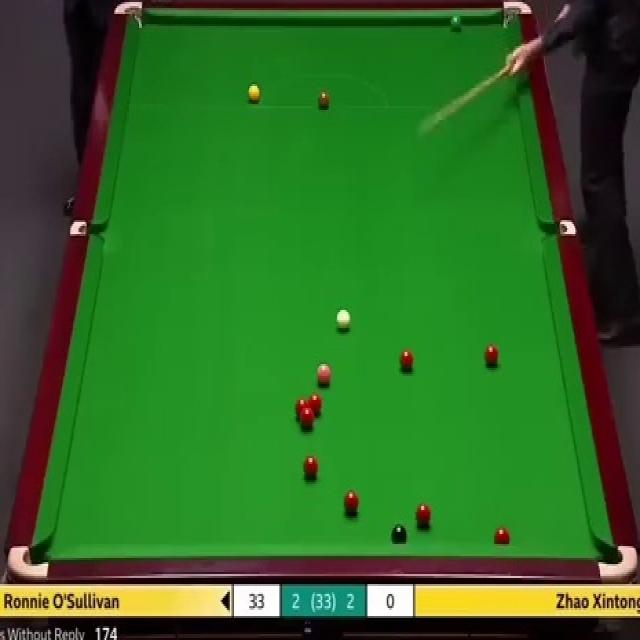black-ball: (391, 523, 406, 543)
brown-ball: (317, 88, 331, 111)
green-ball: (450, 14, 463, 30)
pink-ball: (316, 362, 332, 385)
red-ball: (343, 489, 359, 517), (415, 502, 432, 528), (304, 455, 319, 480), (399, 349, 414, 371), (495, 526, 511, 546), (485, 344, 499, 366), (301, 408, 314, 430), (309, 393, 322, 415), (296, 399, 308, 412)
white-ball: (336, 308, 353, 332)
yellow-ball: (247, 83, 260, 103)
